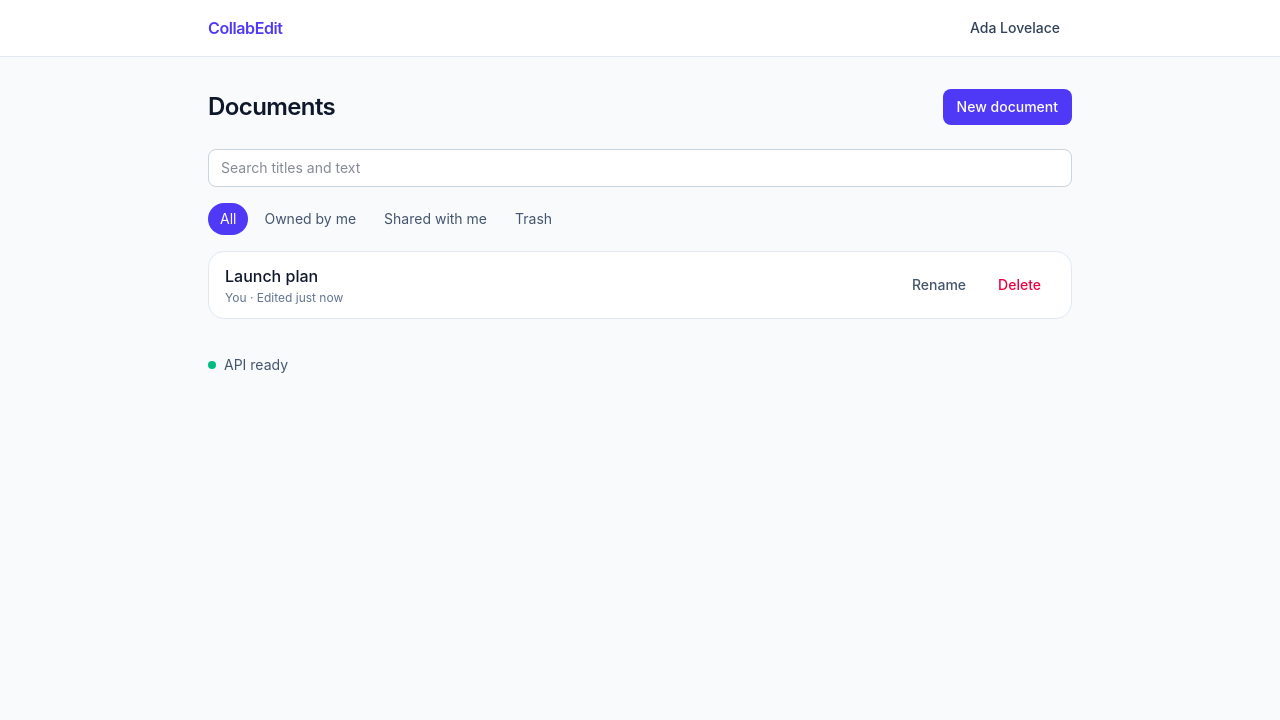
Test: authentication flow › signs out from the account menu
The width and height of the screenshot is (1280, 720).
Click the heading "Ada Lovelace": (1015, 28) left=970, top=19, right=1060, bottom=36
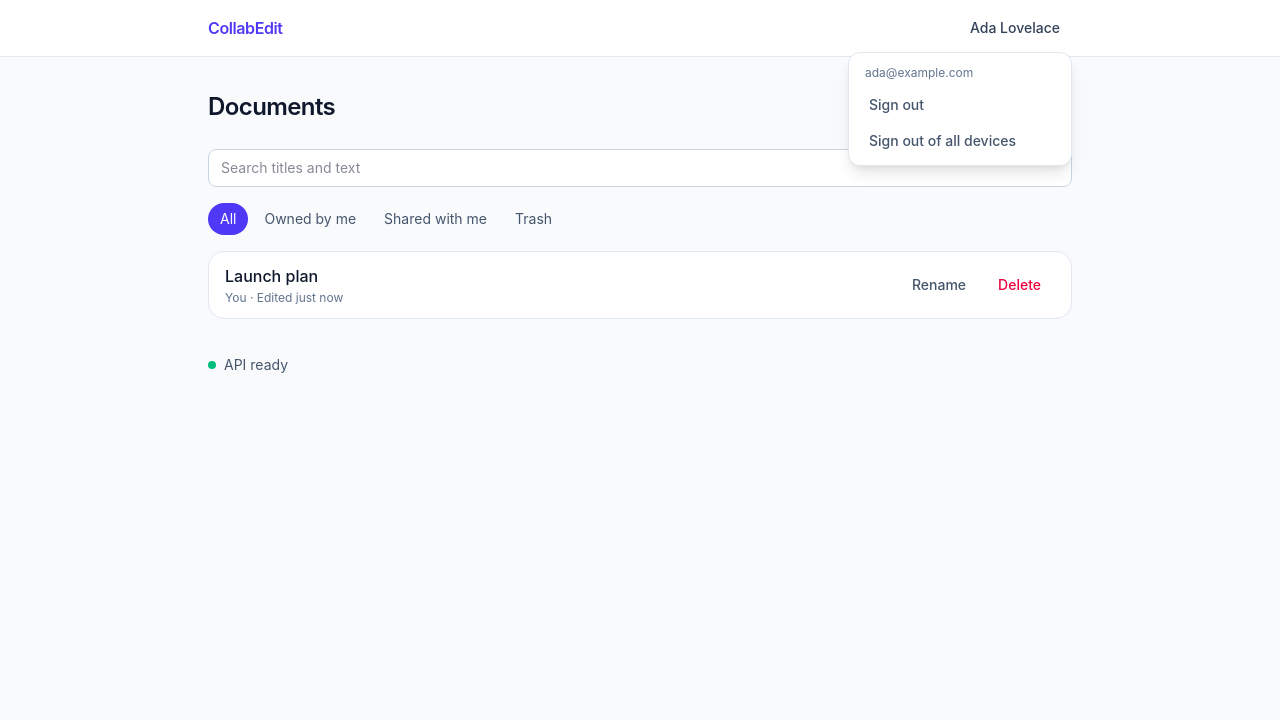
Click the button "Sign out": (960, 105) left=855, top=87, right=1065, bottom=123
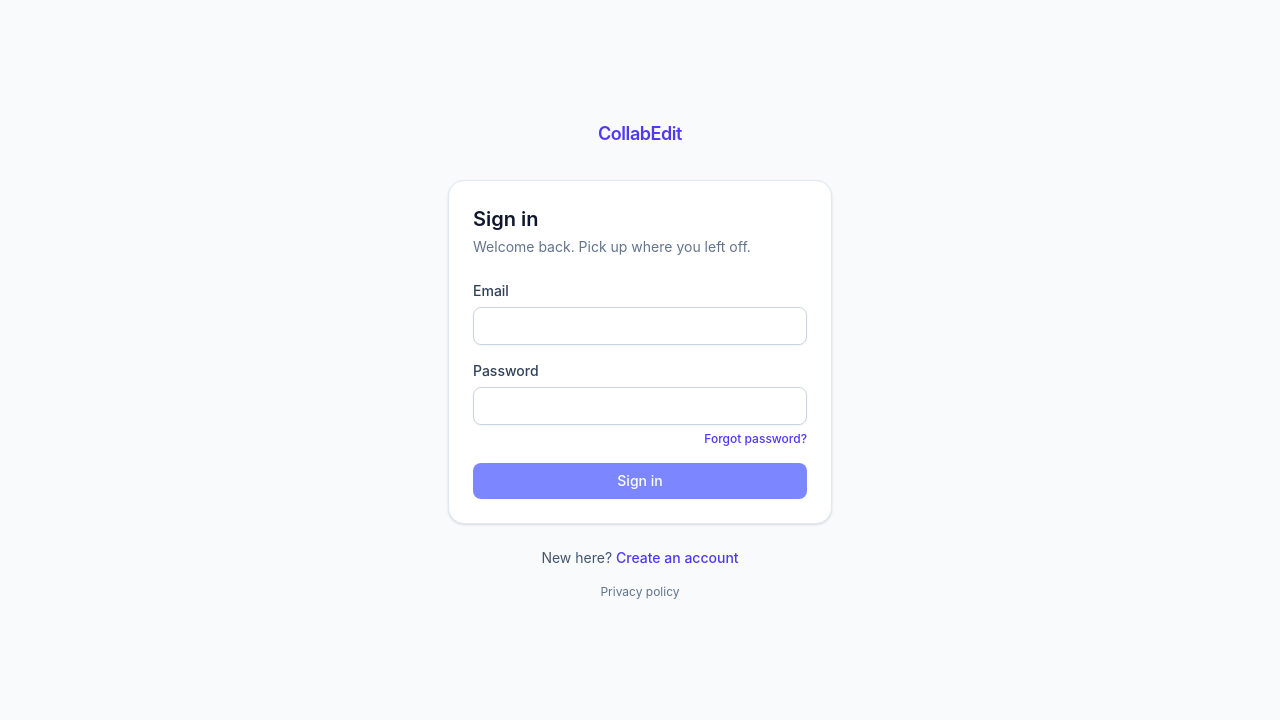
expect the heading "Sign in" is shown: met, box left=473, top=207, right=538, bottom=231
